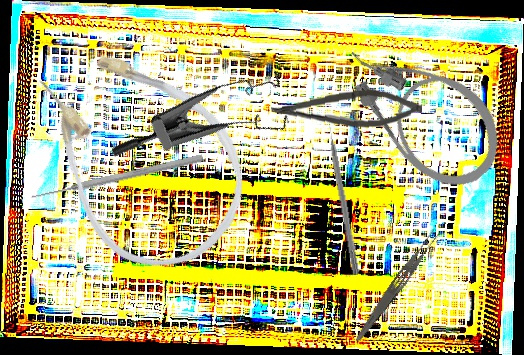Cannula: (2, 7, 279, 300), (327, 9, 520, 207)
Dressing Forceps: (352, 225, 443, 347)
Micro Scissor: (269, 85, 424, 135)
Pusher: (29, 152, 204, 203), (324, 115, 362, 276)
Speculum: (107, 41, 308, 221)
